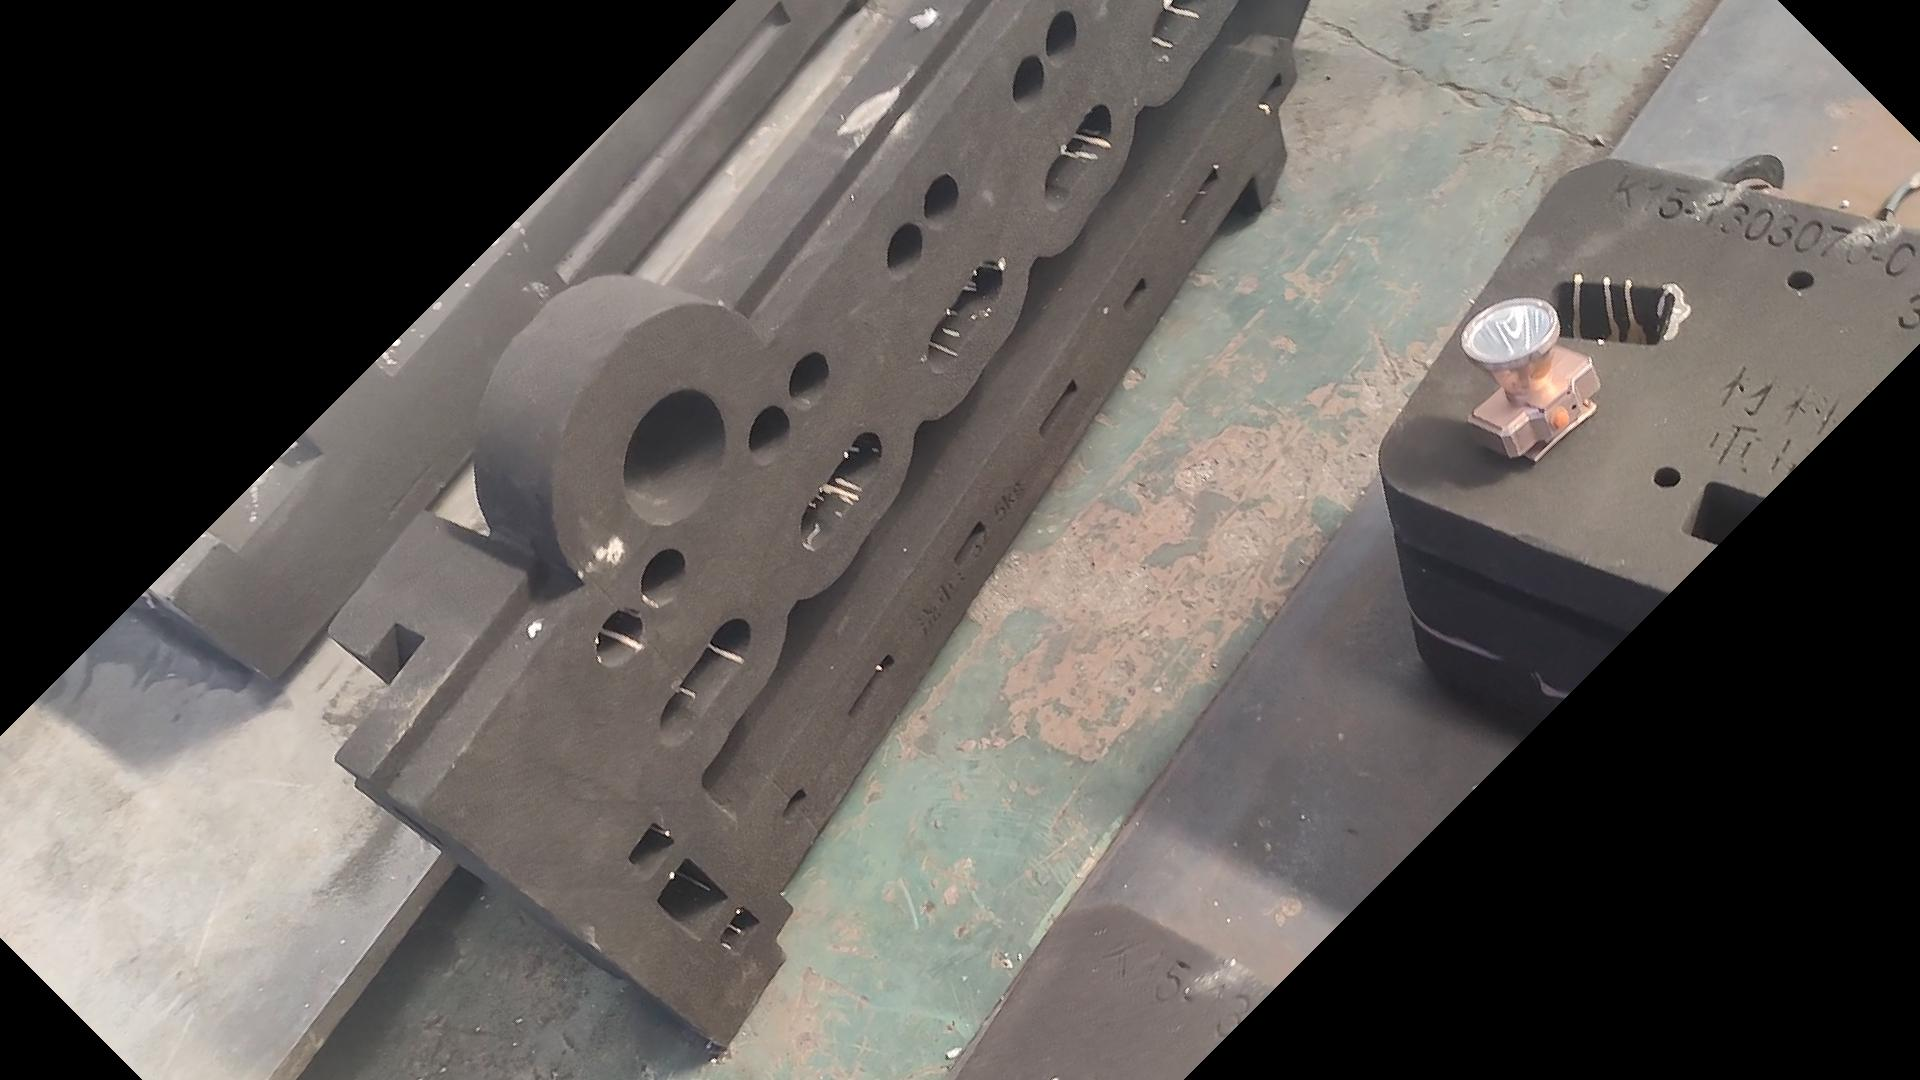pouring hole: (620, 386, 727, 527)
